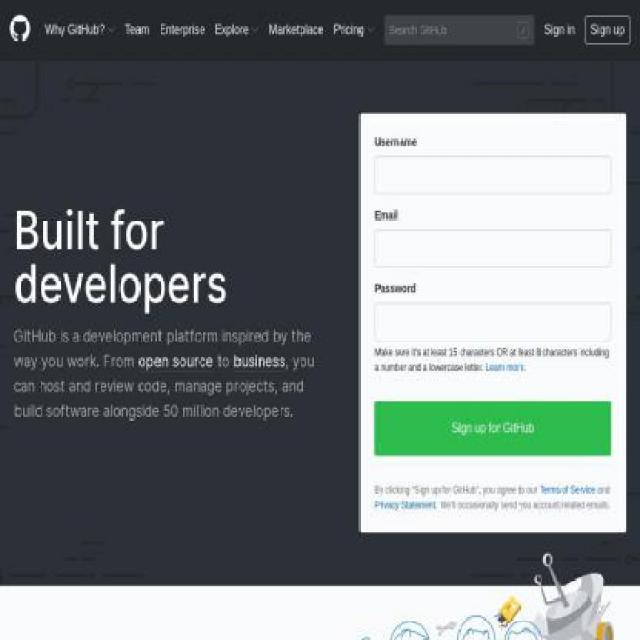button: (374, 401, 612, 456), (268, 6, 324, 54), (158, 6, 204, 54), (138, 350, 213, 372), (584, 16, 630, 44), (125, 6, 149, 54), (233, 350, 285, 372), (543, 20, 575, 40), (0, 0, 11, 42)
field: (374, 155, 612, 194), (374, 229, 612, 268), (374, 302, 612, 341), (384, 14, 518, 46)
